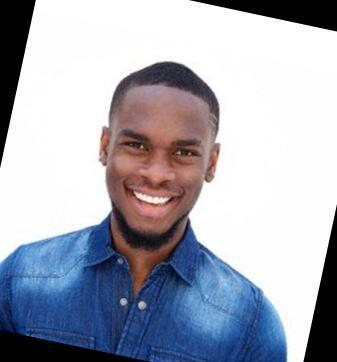Sober: (106, 82, 209, 237)
